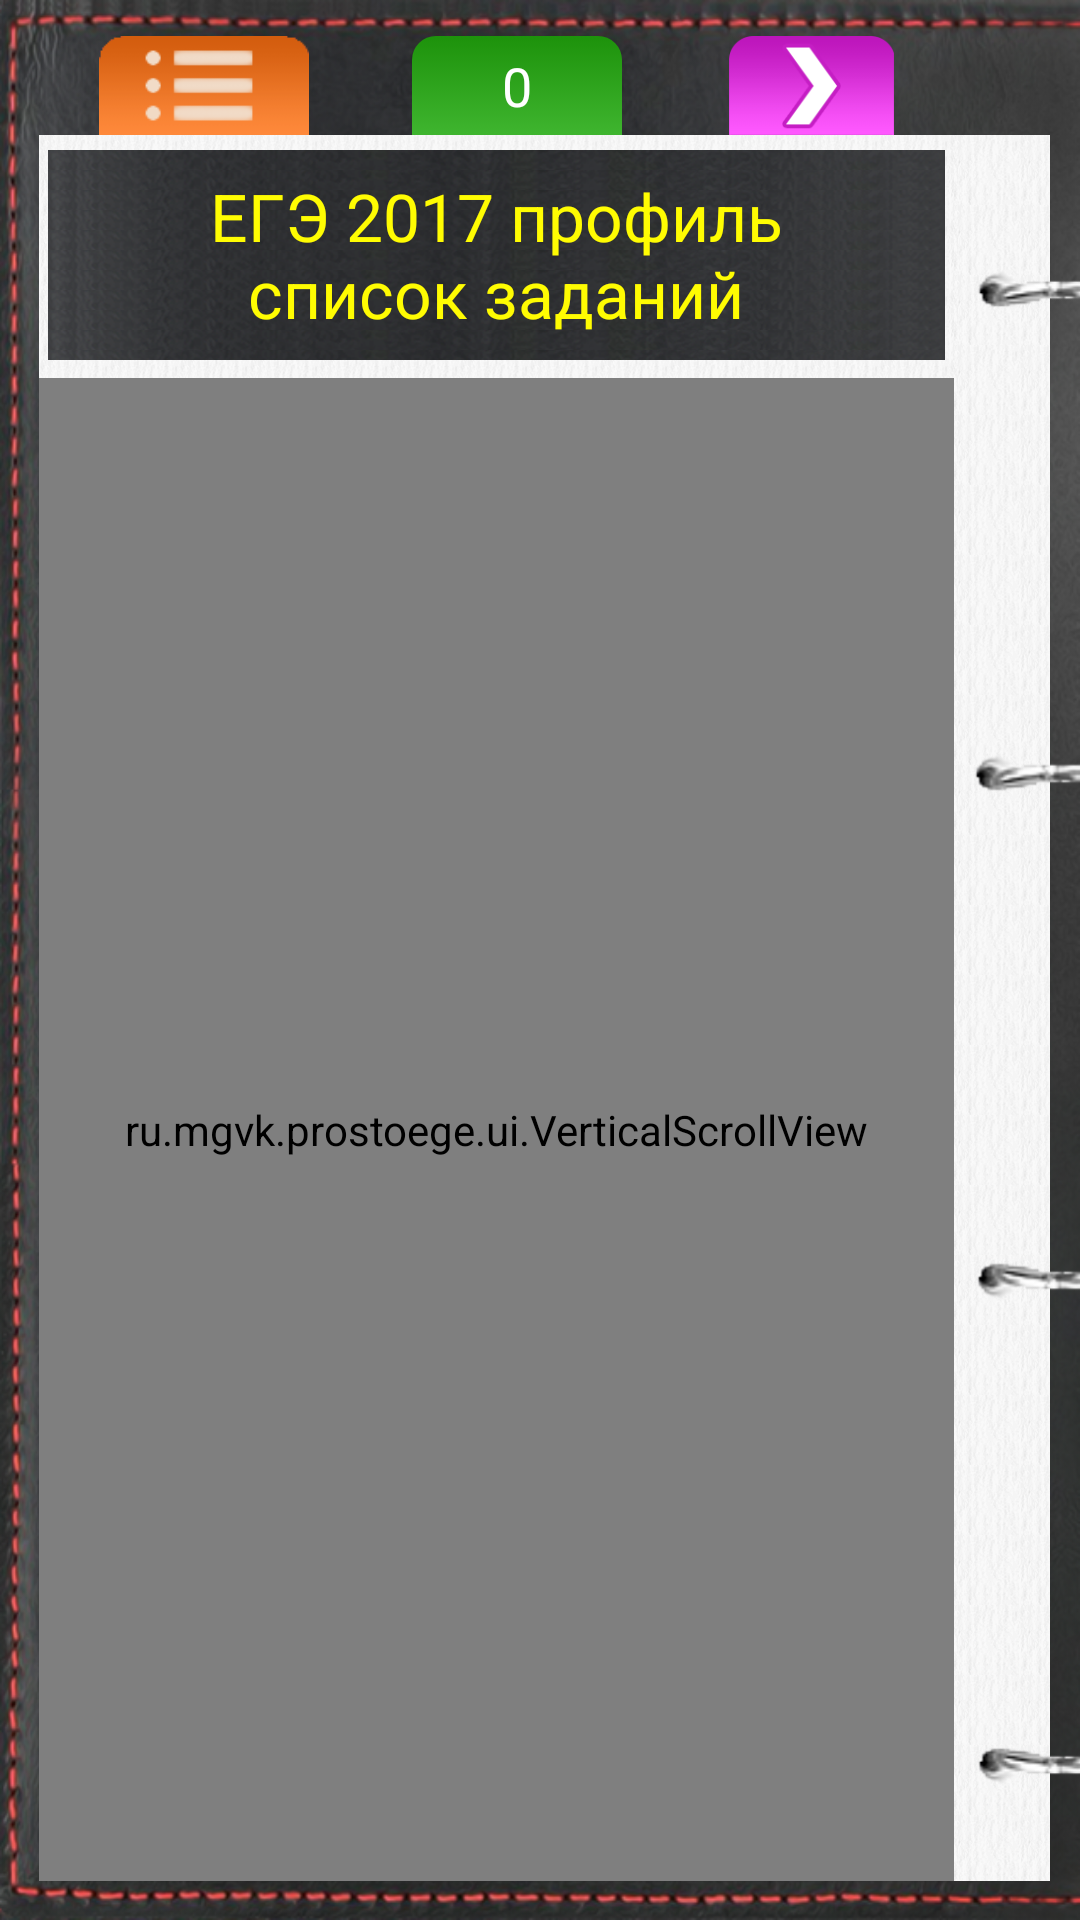

Point at icon controls on the screen. Image size 1080px x 1920px, points as (x,y).
menu: (204,85)
right: (811,85)
